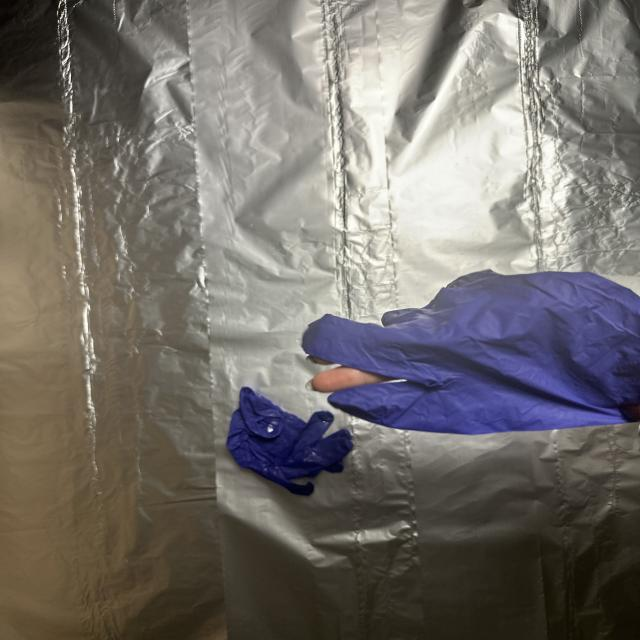glove_not_fitted: (300, 263, 640, 441)
